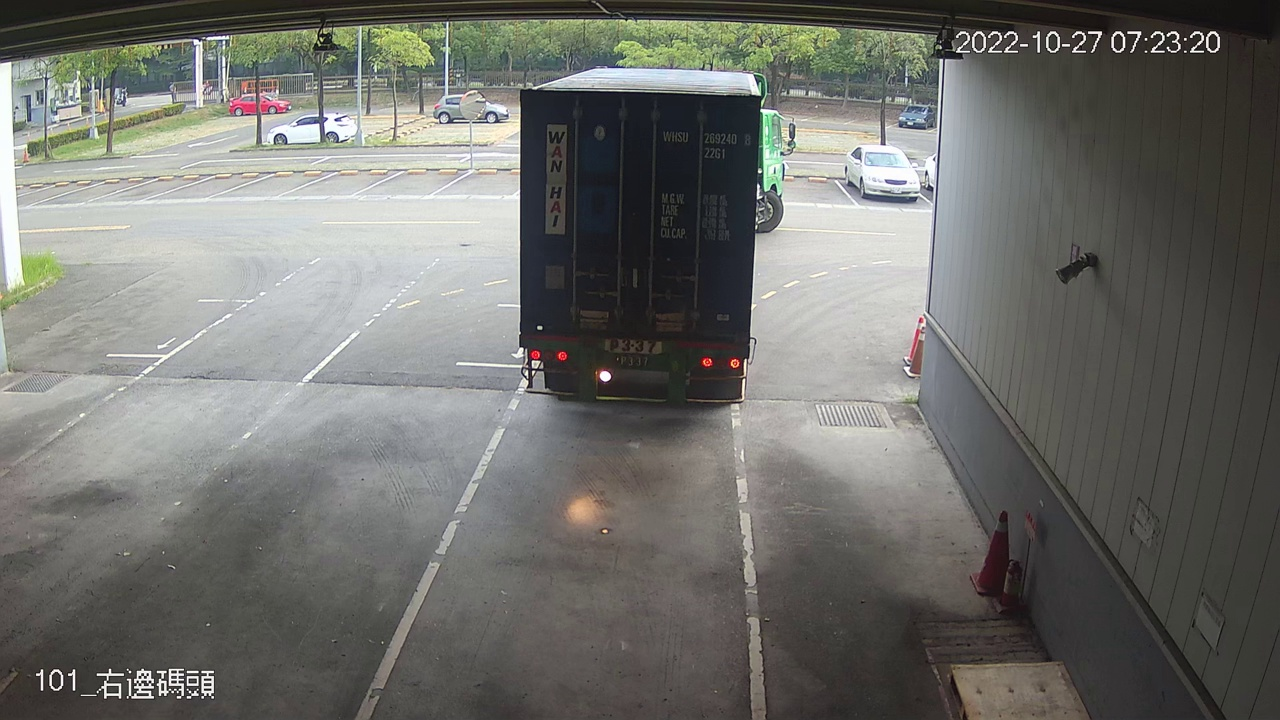container: (657, 122, 755, 163)
